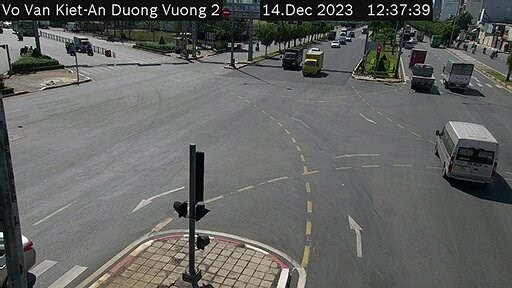truck: (432, 118, 501, 190), (441, 58, 474, 91), (409, 60, 438, 91), (300, 49, 325, 76), (281, 43, 302, 72)
